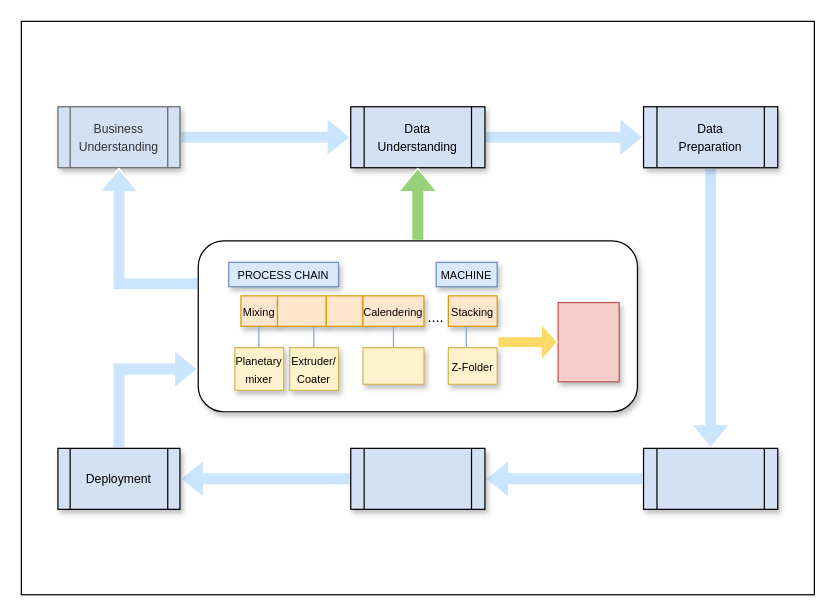
Image size: 836x616. Some labels were removed from this diagram. The shapes that lost their labels are listed below. From the top down, each one's centre as x and y in pixels, then its label:
At pixel 302 312: "Coating".
At pixel 345 312: "Drying".
At pixel 589 343: "Electrical Power Data".
At pixel 394 367: "Calender".
At pixel 418 480: "Evaluation".
At pixel 711 480: "Modelling".
